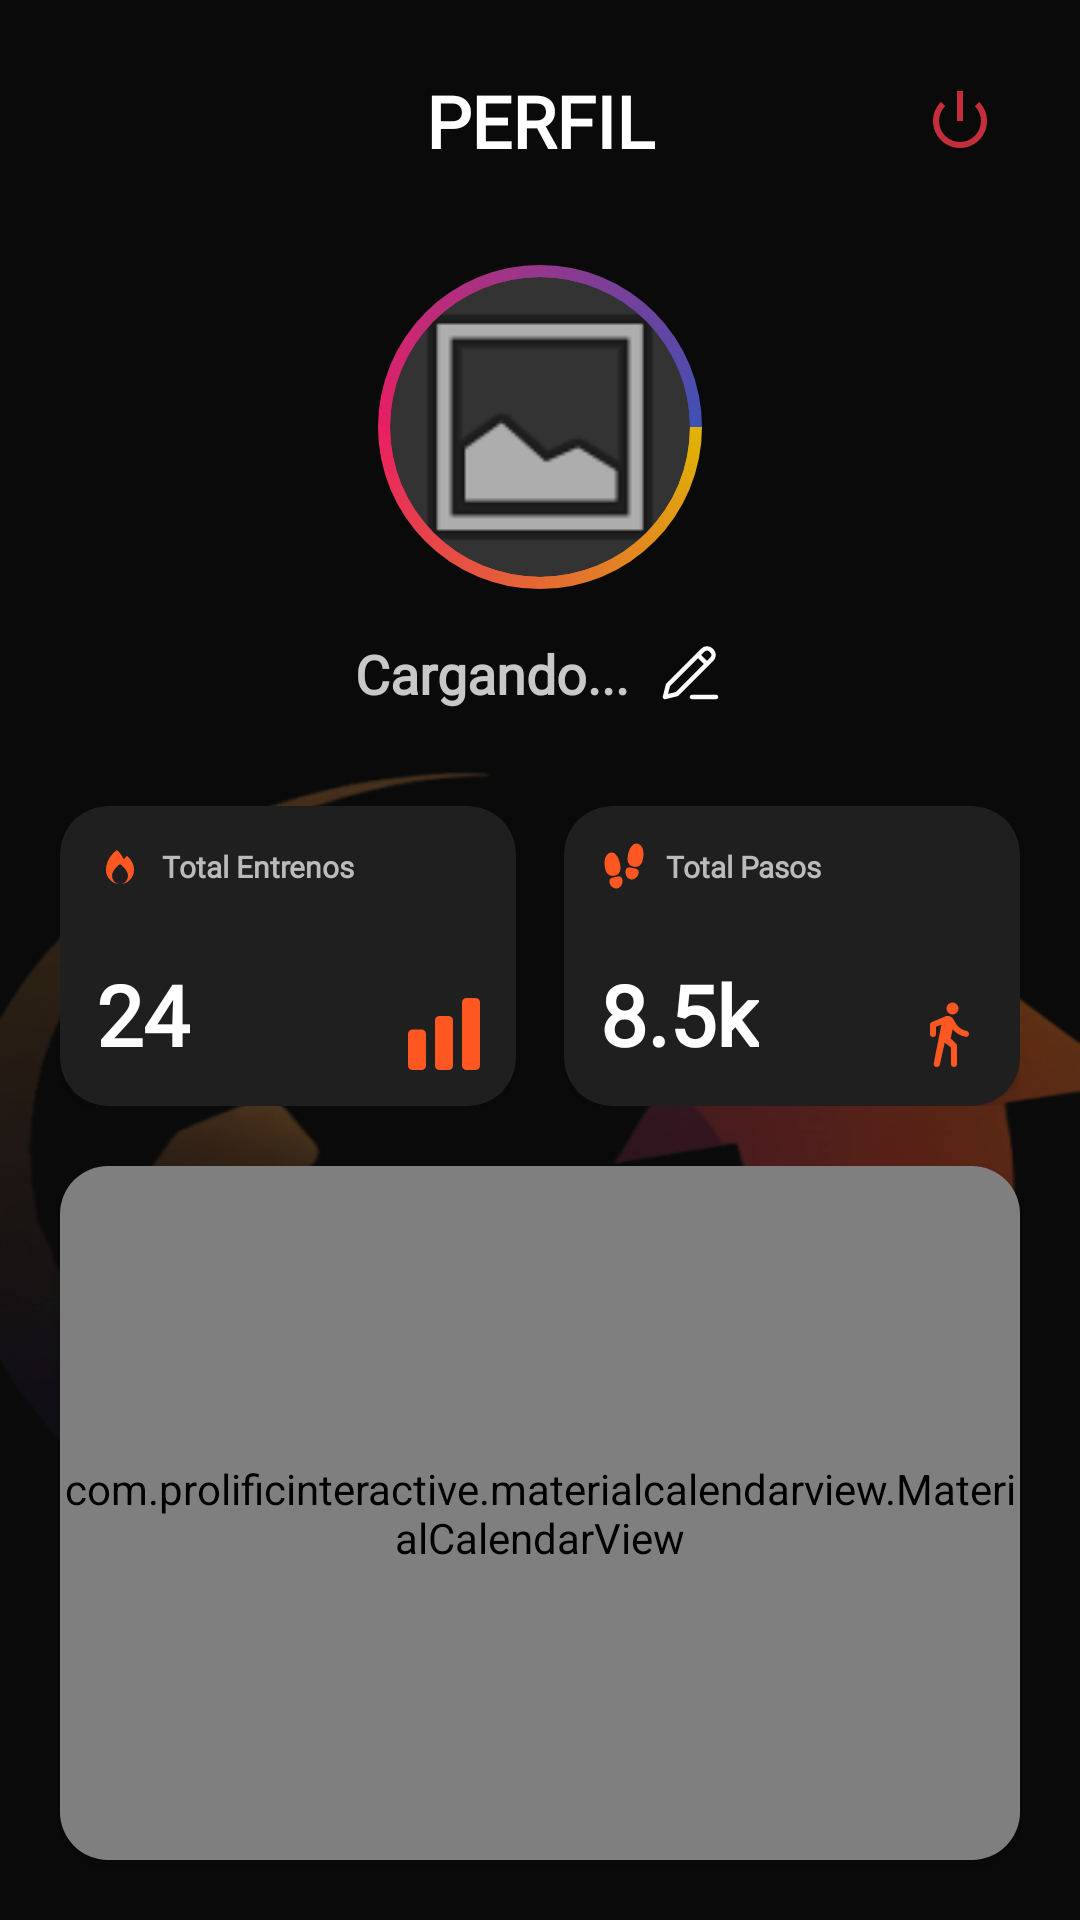

Named icons in this screenshot (1080×1920) and their centers, point (x, y):
bar: point (444, 1034)
edit: point (690, 673)
fire: point (120, 867)
footsteps: point (624, 866)
gallery: point (540, 427)
lock power off: point (960, 119)
personwalk: point (949, 1034)
